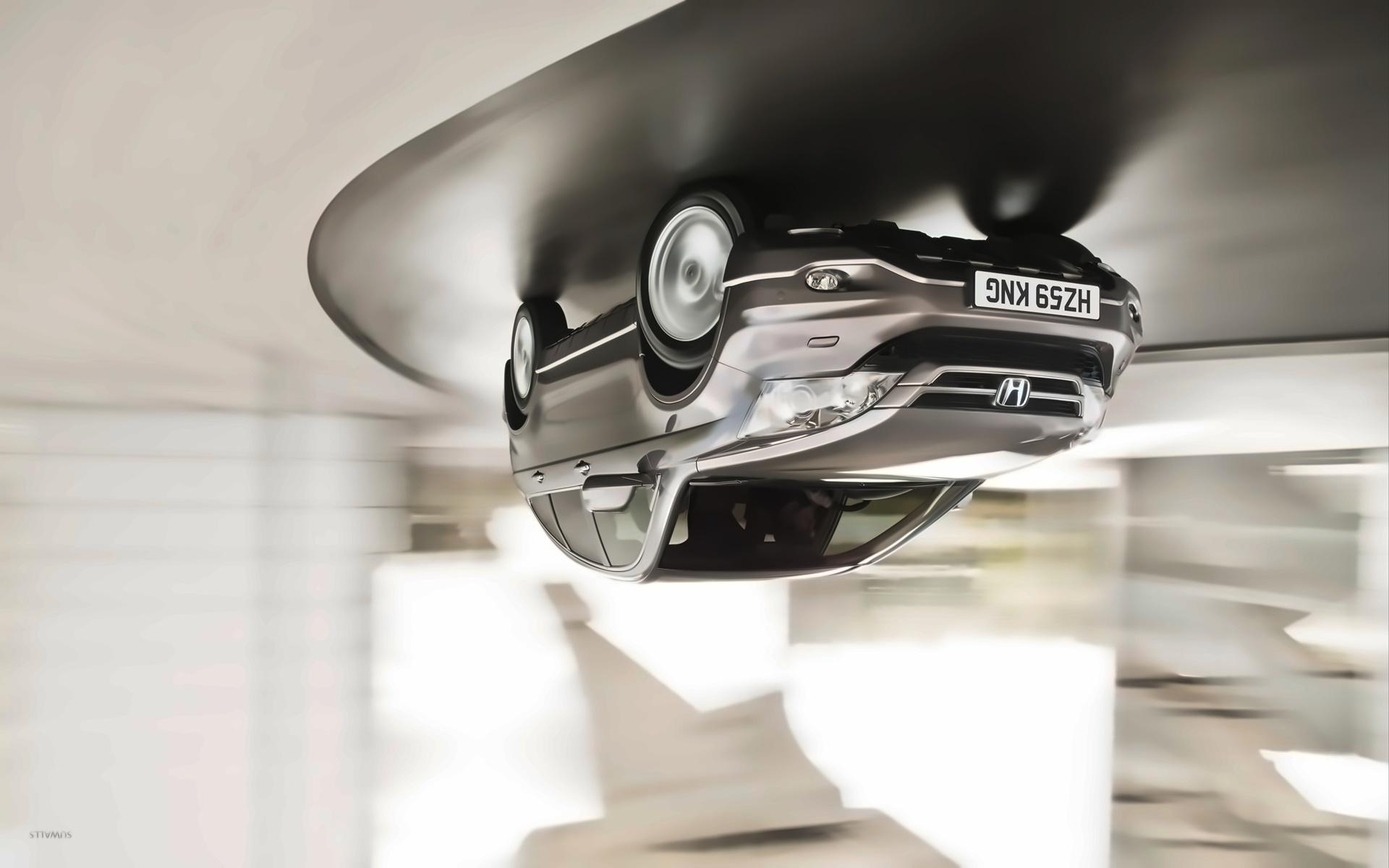Car hood: (690, 401, 1100, 507)
Fender - -F-L-: (590, 299, 770, 470)
Fender - -R-L-: (496, 334, 574, 511)
Front bumper: (718, 222, 1154, 398)
Headlight - -R-: (1082, 379, 1118, 449)
Passenger-s door - -F-L-: (564, 255, 666, 585)
Passenger-s door - -R-L-: (523, 301, 607, 567)
Side bumper - -L-: (532, 287, 641, 408)
Side mirror - -L-: (736, 369, 910, 445), (571, 469, 663, 516)
